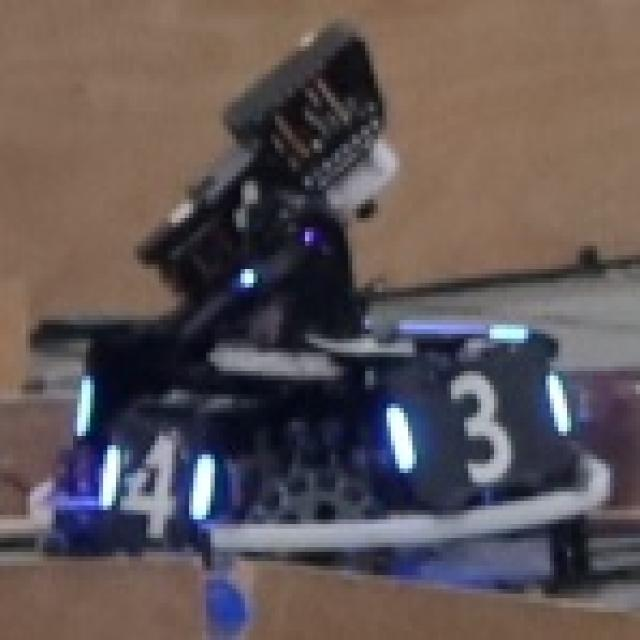B3: (382, 362, 572, 487)
B4: (94, 427, 210, 538)
